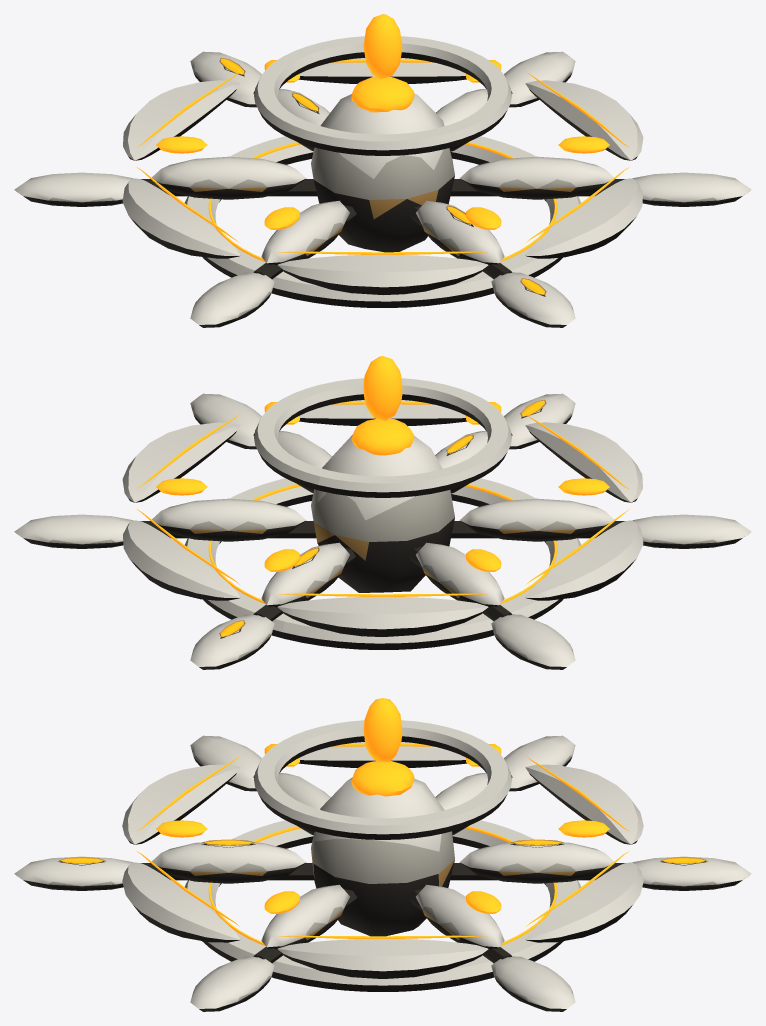
Rendered from 03_festung.glb.
The picture shows the model from 3 angles, top to bottom: view 1: azimuth 30°, elevation 25°; view 2: azimuth 150°, elevation 25°; view 3: azimuth 270°, elevation 25°; orthographic projection.
Parts seen in each view (by area): view 1: Hull, rotating_collar, energy_1; view 2: Hull, rotating_collar, energy_1; view 3: Hull, rotating_collar, energy_1.
Boxes of the visible parts, left/top/right/bottom form: Hull: left=14, top=14, right=751, bottom=327; rotating_collar: left=184, top=36, right=580, bottom=307; energy_1: left=351, top=76, right=414, bottom=112; Hull: left=14, top=356, right=751, bottom=669; rotating_collar: left=185, top=378, right=581, bottom=649; energy_1: left=351, top=418, right=414, bottom=455; Hull: left=14, top=698, right=751, bottom=1011; rotating_collar: left=185, top=720, right=580, bottom=991; energy_1: left=351, top=761, right=414, bottom=796.
Size of the model in its own units: 24.25 by 9.88 by 28.
